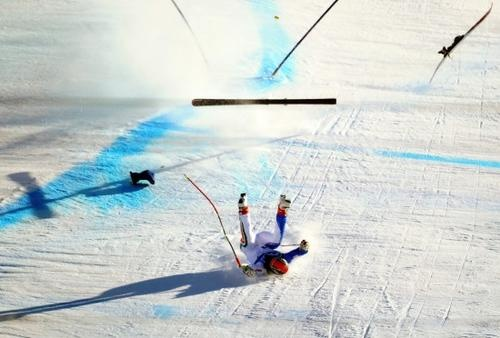falling: (223, 184, 314, 282)
